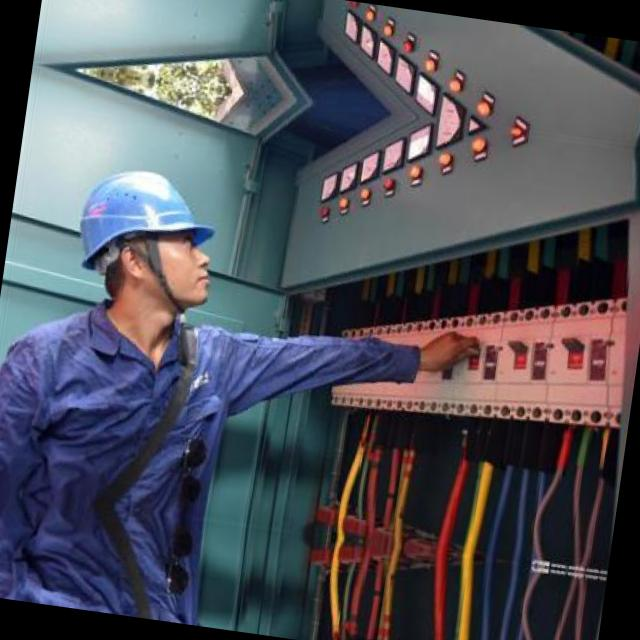helmet: (46, 140, 230, 343), (89, 0, 256, 24)
